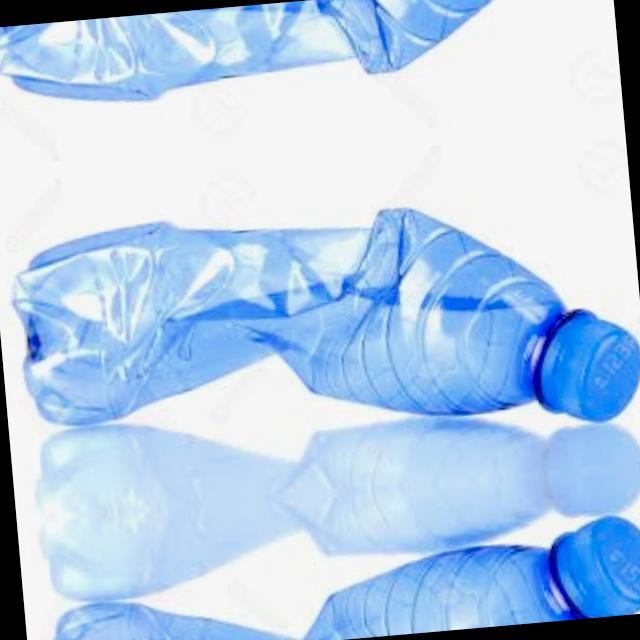Plastic: (3, 164, 640, 494), (31, 487, 640, 640), (0, 0, 619, 127)
